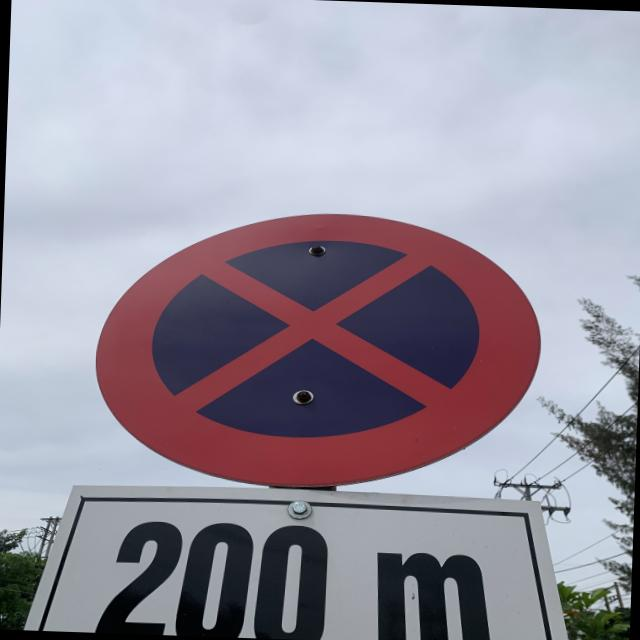Cam_Dung_Va_Dau_Xe: (90, 202, 547, 494)
